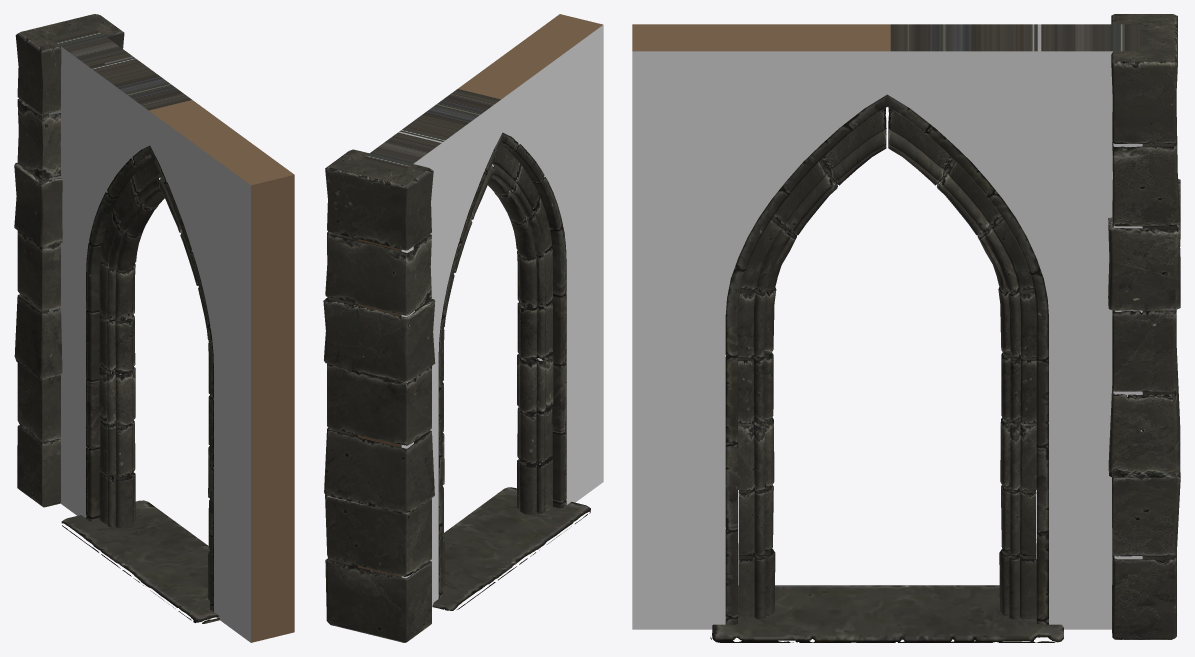
3 renders of one model, left to right at view 1: azimuth 30°, elevation 25°; view 2: azimuth 150°, elevation 25°; view 3: azimuth 270°, elevation 25°, orthographic. The views are drawn at different scales.
Parts seen in each view (by area): view 1: SM_Greathall_Lower_Arch_8x10_01_LOD0; view 2: SM_Greathall_Lower_Arch_8x10_01_LOD0; view 3: SM_Greathall_Lower_Arch_8x10_01_LOD0.
Boxes of the visible parts, x1,y1,x2,y2 form: SM_Greathall_Lower_Arch_8x10_01_LOD0: [14, 14, 294, 642]; SM_Greathall_Lower_Arch_8x10_01_LOD0: [323, 14, 603, 642]; SM_Greathall_Lower_Arch_8x10_01_LOD0: [632, 14, 1180, 642].
Bounding box in the file's own units: 2 × 10 × 8.6.
Materials: 3 (2 with a texture image).
